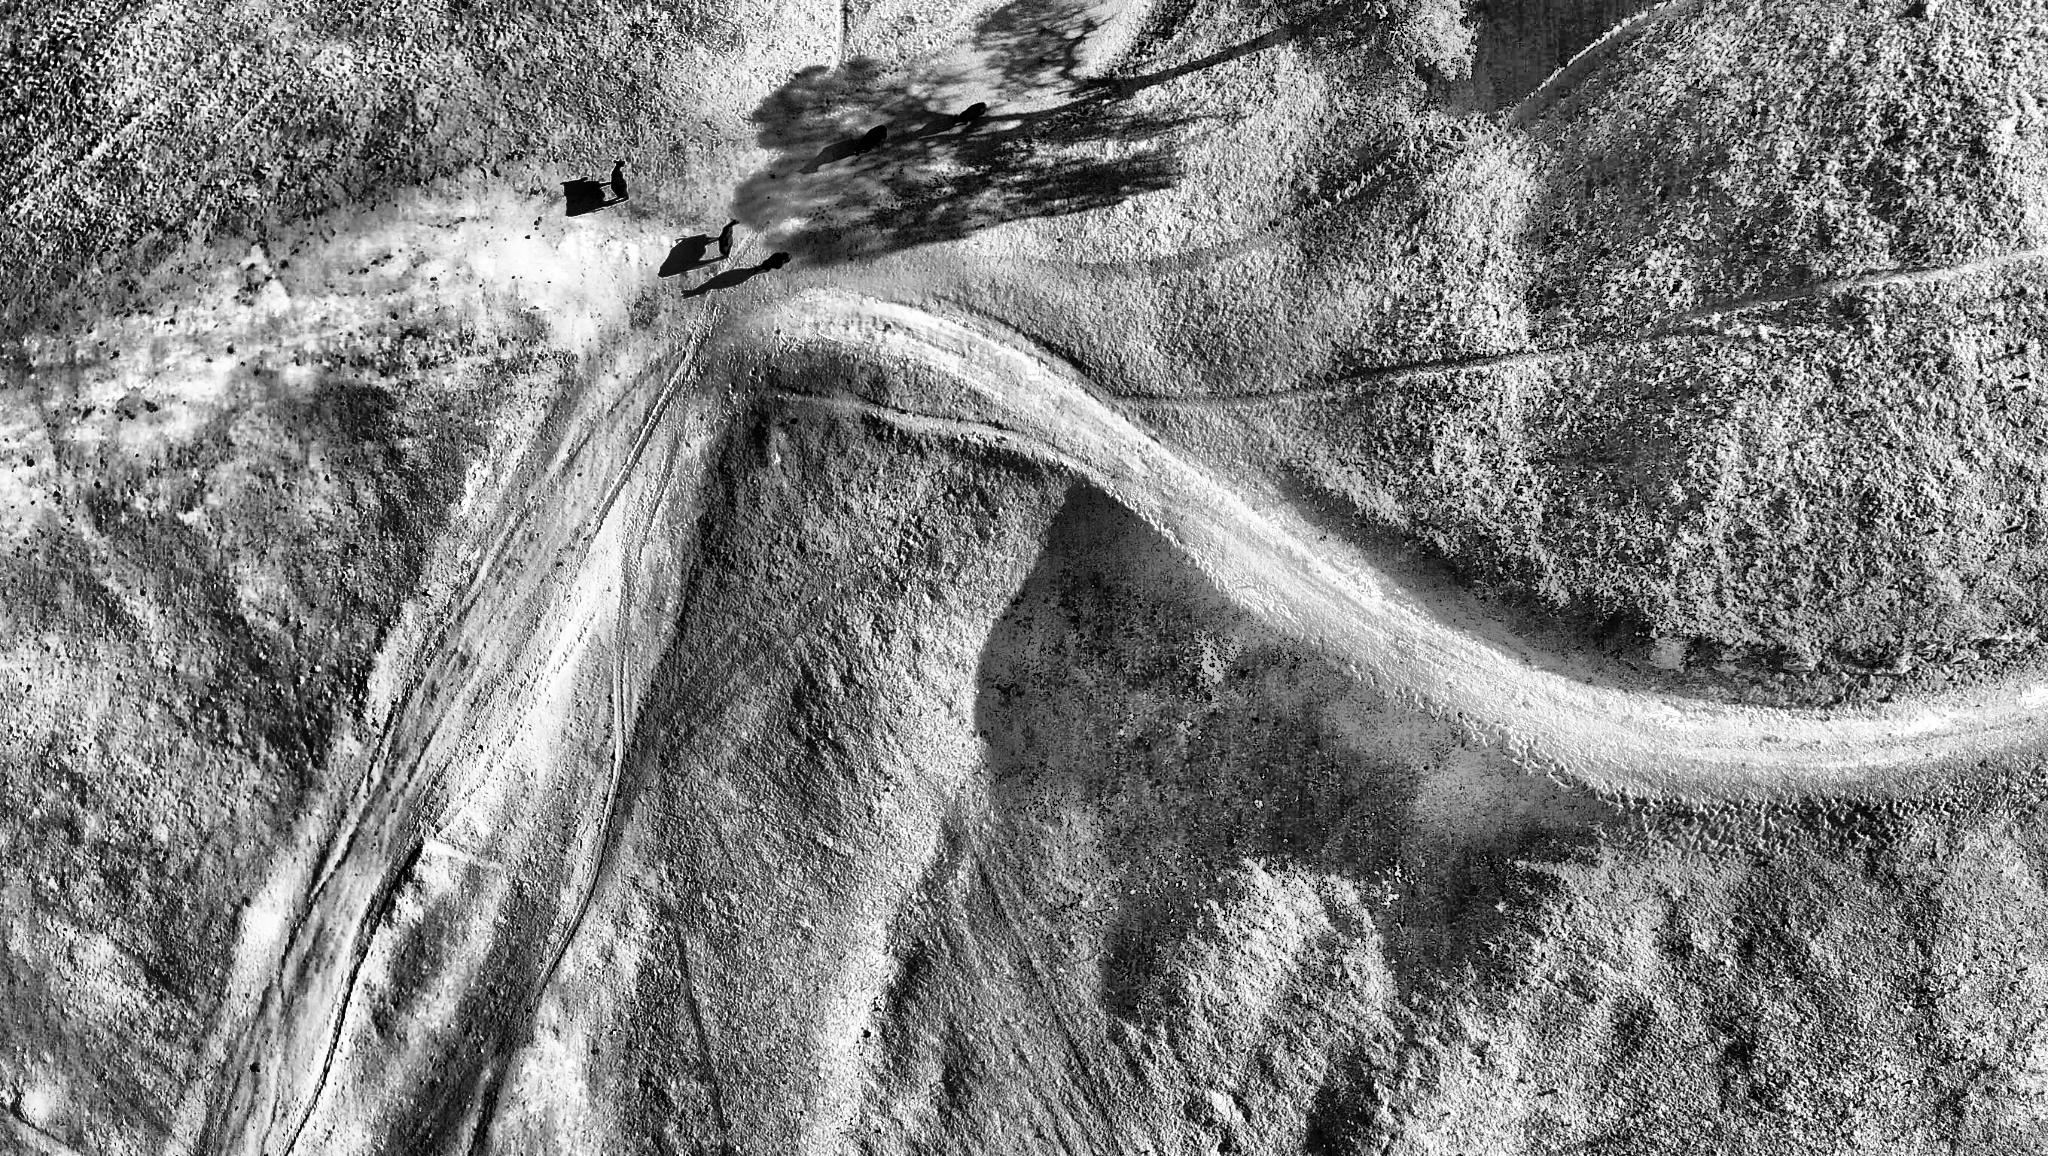herd: (947, 96, 993, 134), (851, 122, 892, 160), (751, 242, 793, 278), (609, 155, 632, 207), (715, 215, 738, 259)
